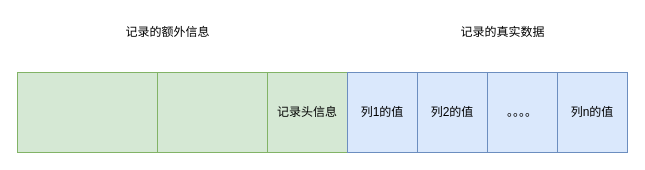
This 645x170 diagram has some shape labels left out. The shapes that lost their labels are listed below. From the top down, each one's centre as x and y in pixels, then its label:
At point 87,112: "变长字段长度列表".
At point 212,112: "null值列表".
